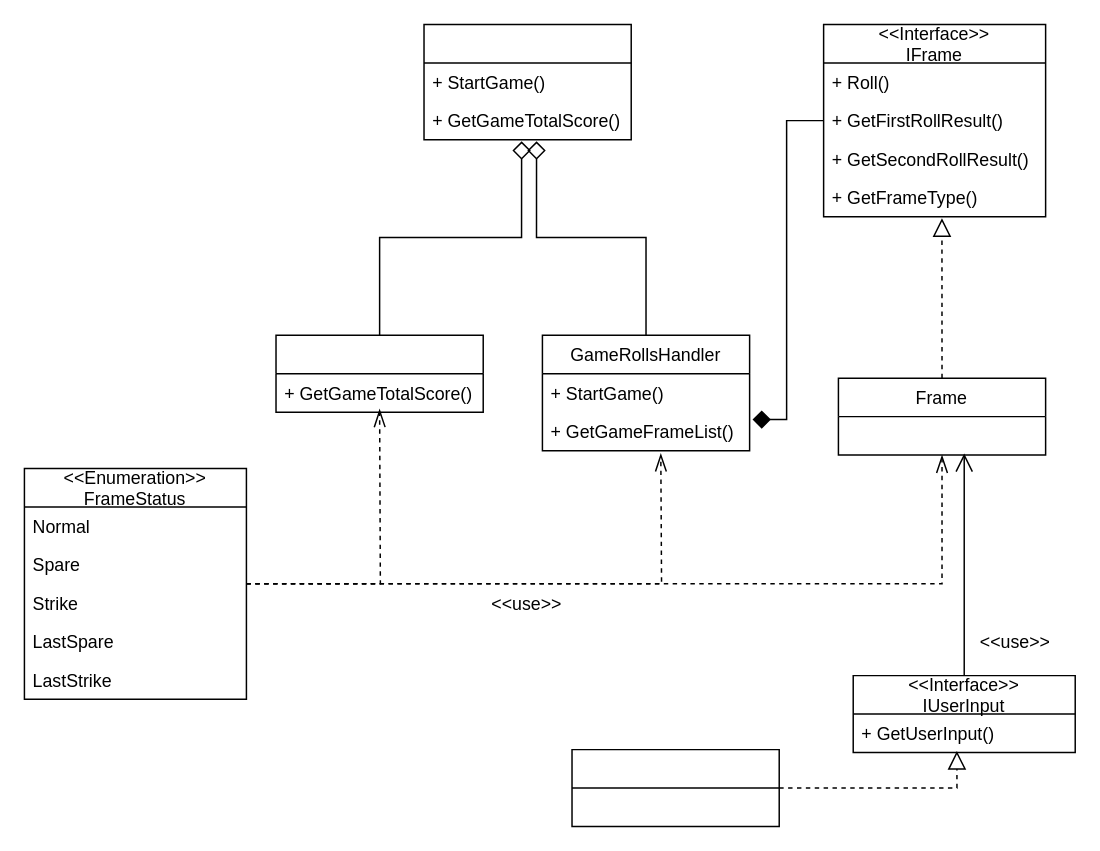
This 1100x851 diagram has some shape labels left out. The box of each missing label's shape, as (x1, y1, x2, y2) in pixels:
BowlingGame: (423, 23, 631, 140)
ResultHandler: (275, 334, 483, 412)
UserInput: (571, 748, 779, 827)
